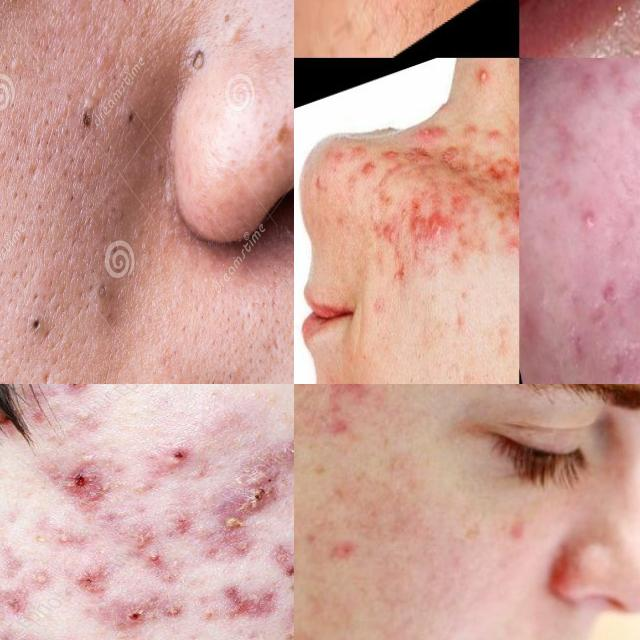acne_scars: (202, 580, 294, 639), (592, 274, 632, 321)
comedone: (363, 278, 402, 338), (354, 187, 386, 247), (468, 353, 505, 384), (182, 40, 212, 74), (27, 311, 55, 338), (82, 105, 99, 138)
papule: (594, 344, 632, 384)
pustule: (568, 192, 608, 246), (467, 58, 497, 97)
sebo-crystan-conglo: (194, 444, 294, 541), (404, 191, 456, 256), (406, 110, 458, 160), (478, 144, 519, 201), (499, 184, 519, 272), (160, 441, 192, 487)
